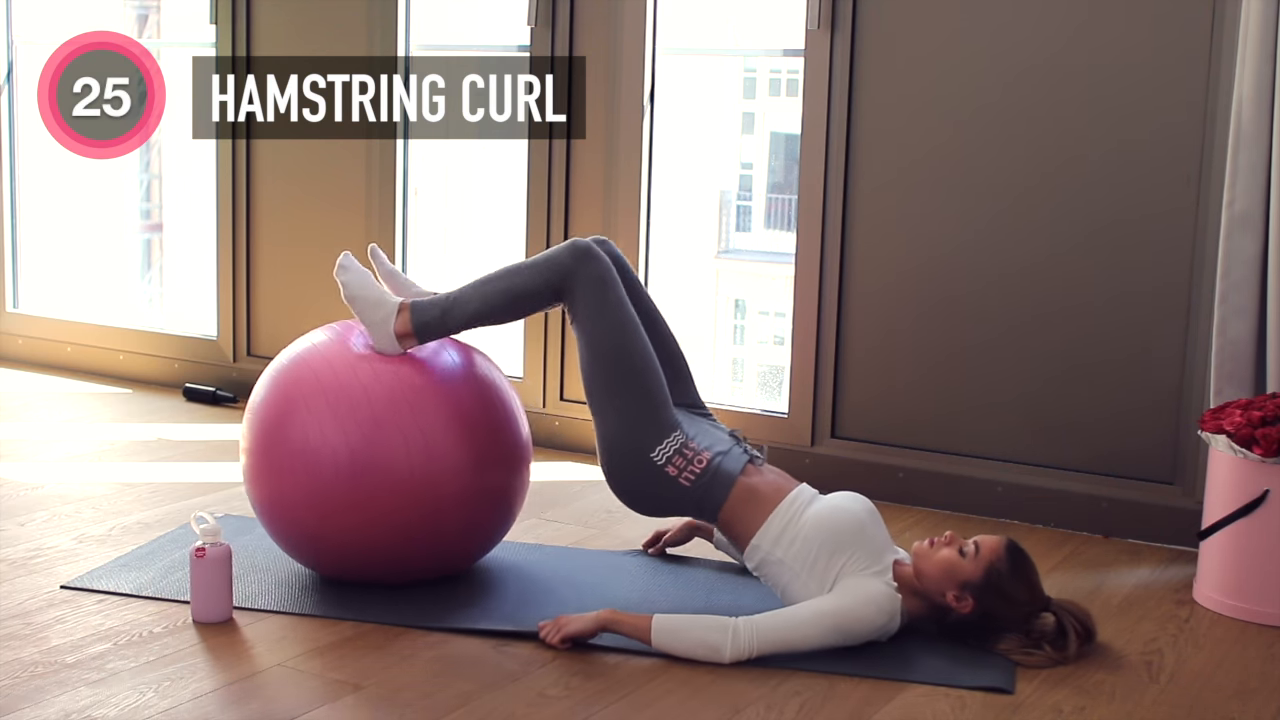yogaball: (236, 313, 540, 600)
